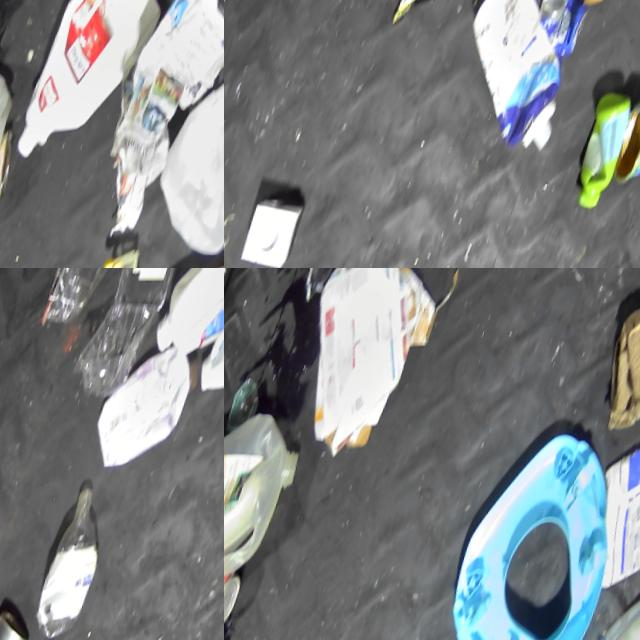can: (530, 0, 602, 63), (615, 83, 640, 195), (224, 558, 256, 634), (0, 603, 51, 640)
milk_jug: (11, 0, 186, 183), (224, 395, 320, 627), (141, 31, 224, 268), (0, 56, 35, 265)
